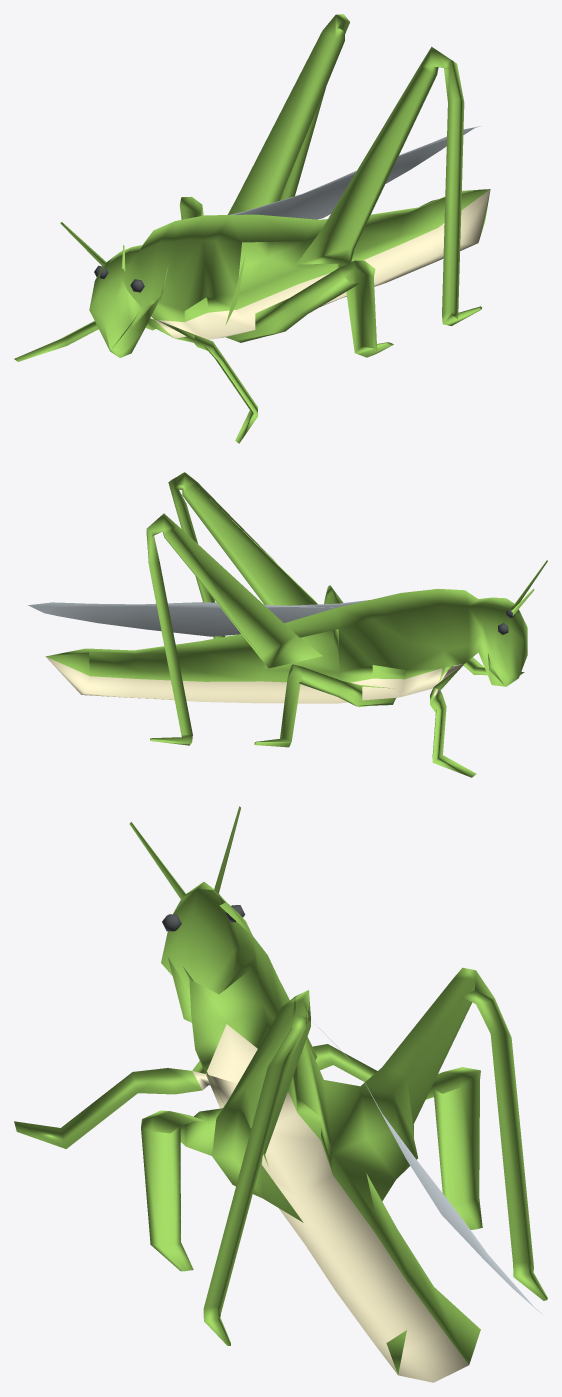
Rendered from grasshopper2.glb.
3 views of the same model, one above another, from view 1: azimuth 30°, elevation 25°; view 2: azimuth 150°, elevation 25°; view 3: azimuth 270°, elevation 25° (orthographic). The views are drawn at different scales.
Parts seen in each view (by area): view 1: Body, Wings; view 2: Body, Wings; view 3: Body, Wings.
Part boxes in pixels (x1,y1,x2,y2): Body: (14,14,490,443); Wings: (229,126,481,219); Body: (45,472,547,777); Wings: (28,600,369,636); Body: (14,806,547,1382); Wings: (311,1020,542,1314).
Bounding box in the file's own units: 533 × 233 × 326.
